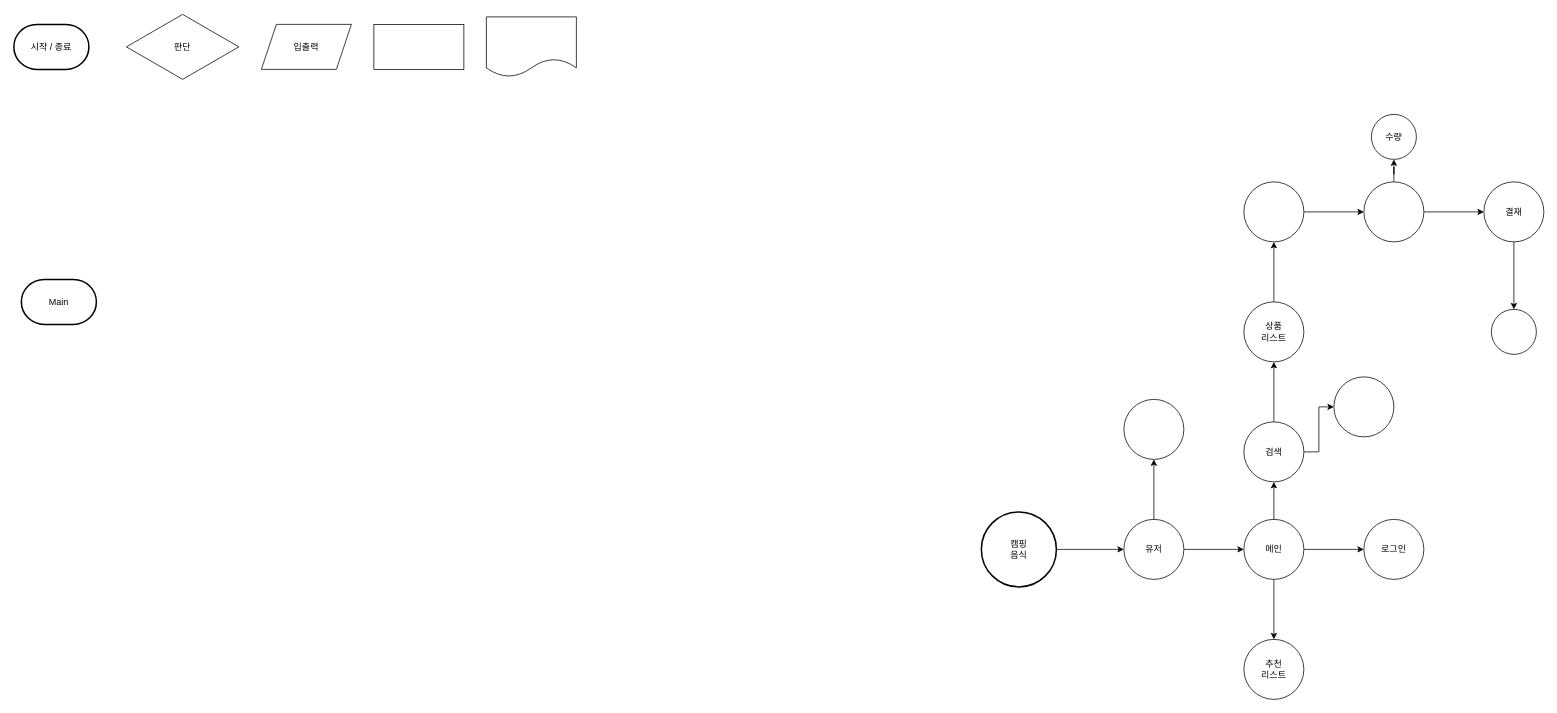
Some shapes in this 1557 by 713 pixel diagram are drawn without their labels. The shapes that lost their labels are listed below. From the top down, each one's box as (x1, y1, x2, y2) in pixels, then its label:
(373, 24, 464, 69): 처리
(486, 16, 576, 77): 출력
(1243, 181, 1304, 242): 상품 상세페이지
(1363, 181, 1424, 242): 장바구니
(1491, 309, 1536, 354): 배송지 선택
(1333, 376, 1394, 437): 카테고리
(1123, 399, 1184, 459): 회원가입
